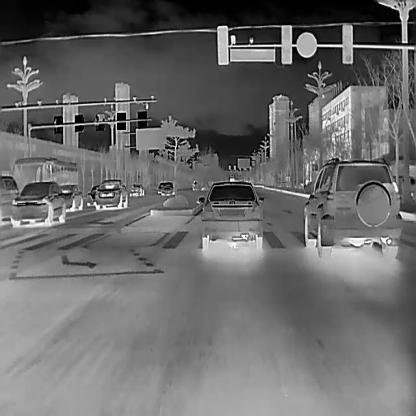car: (302, 156, 403, 257), (198, 180, 263, 250), (10, 179, 65, 226), (11, 156, 78, 194), (0, 174, 19, 225), (94, 179, 126, 209), (59, 184, 83, 212), (86, 185, 100, 206), (129, 182, 144, 197), (160, 181, 174, 196), (157, 182, 164, 193)
